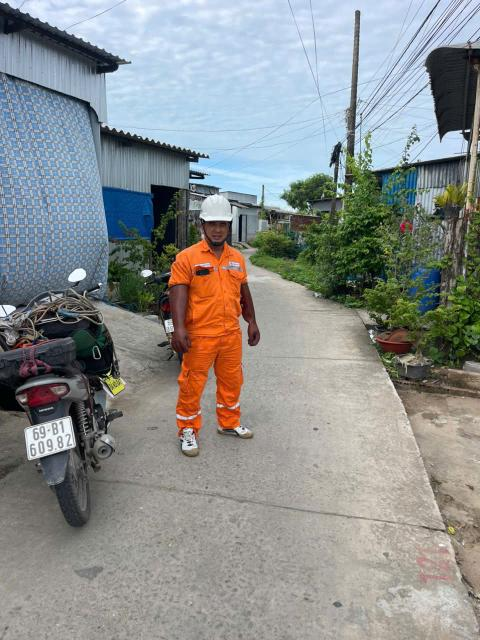gloves: (165, 282, 197, 356), (236, 278, 267, 350)
helmet: (195, 188, 236, 227)
shoes: (178, 425, 208, 459), (216, 418, 263, 438)
